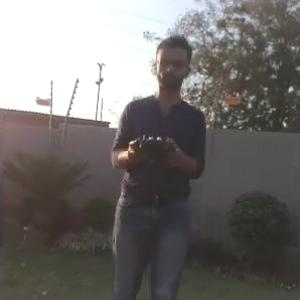follow: (101, 27, 208, 299)
